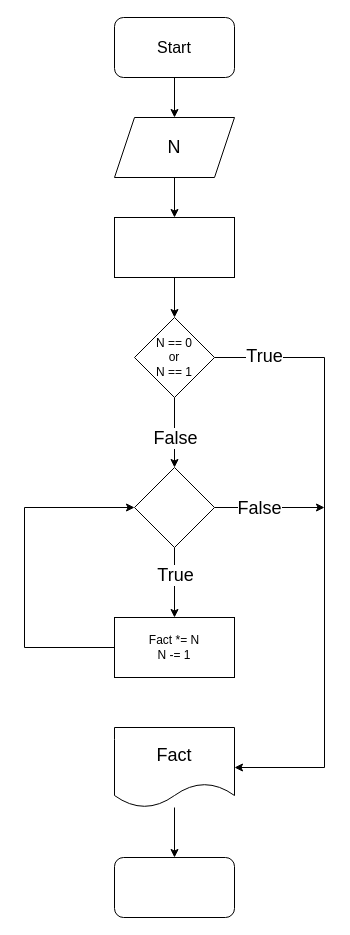
Some shapes in this 350 by 935 pixel diagram are drawn without their labels. Each missing label, with the box of its shape:
Fact = 1: (114, 216, 234, 278)
Finish: (114, 856, 234, 918)
N > 1: (134, 466, 214, 548)
